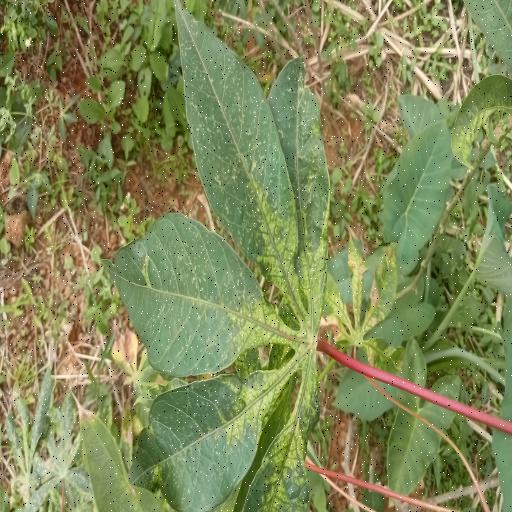Cassava_Mosaic: (98, 0, 334, 512)
